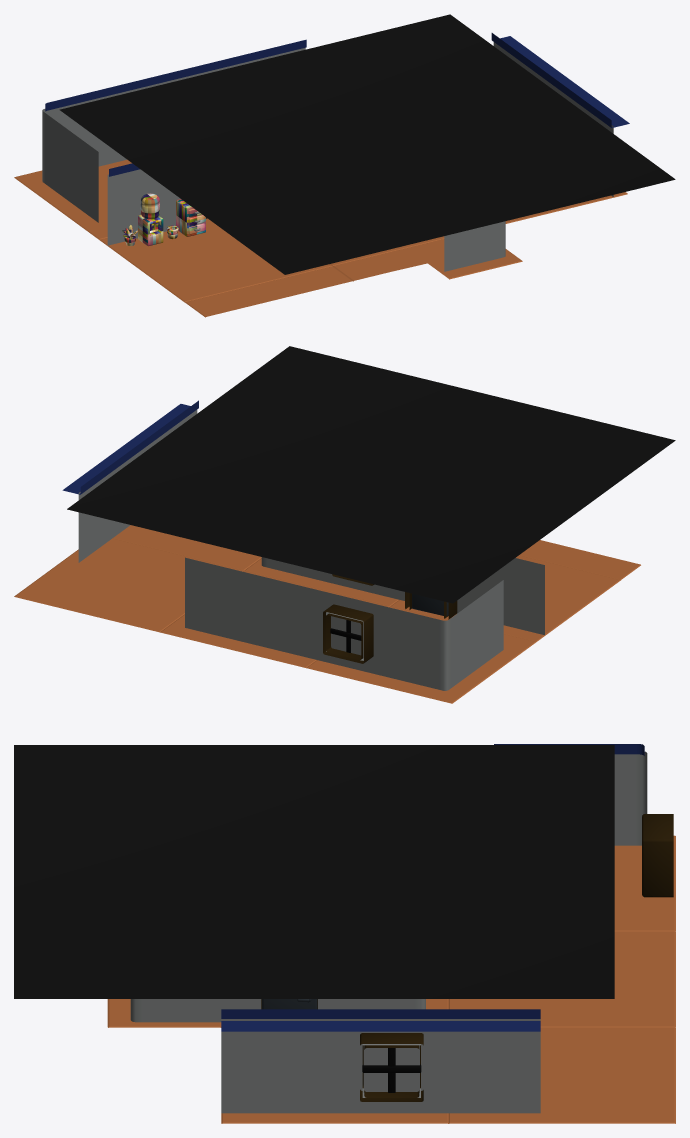
File: PMP_Environment.fbx
3 views of the same model, one above another, from view 1: azimuth 30°, elevation 25°; view 2: azimuth 150°, elevation 25°; view 3: azimuth 270°, elevation 25° (orthographic). The views are drawn at different scales.
Parts seen in each view (by area): view 1: Ceiling, Floor, Structure, toon_office_cabinet__1_, toon_office_water_drinker, toon_office_water_gallon; view 2: Ceiling, Structure, Floor, toon_office_door__1__1; view 3: Ceiling, Structure, Floor, toon_office_door__1_.
Boxes of the visible parts, bbox=[...] form: Ceiling: bbox=[59, 14, 675, 274]; Floor: bbox=[14, 159, 627, 317]; Structure: bbox=[42, 33, 629, 271]; toon_office_cabinet__1_: bbox=[176, 199, 205, 236]; toon_office_water_drinker: bbox=[138, 215, 163, 246]; toon_office_water_gallon: bbox=[140, 193, 159, 219]; Ceiling: bbox=[67, 346, 675, 603]; Structure: bbox=[62, 400, 544, 690]; Floor: bbox=[14, 525, 640, 703]; toon_office_door__1__1: bbox=[412, 593, 448, 615]; Ceiling: bbox=[14, 745, 614, 998]; Structure: bbox=[130, 744, 673, 1113]; Floor: bbox=[107, 835, 675, 1123]; toon_office_door__1_: bbox=[262, 999, 317, 1009].
Size of the model in its own units: 475 by 80.59 by 459.
Materials: 13 (1 with a texture image).
